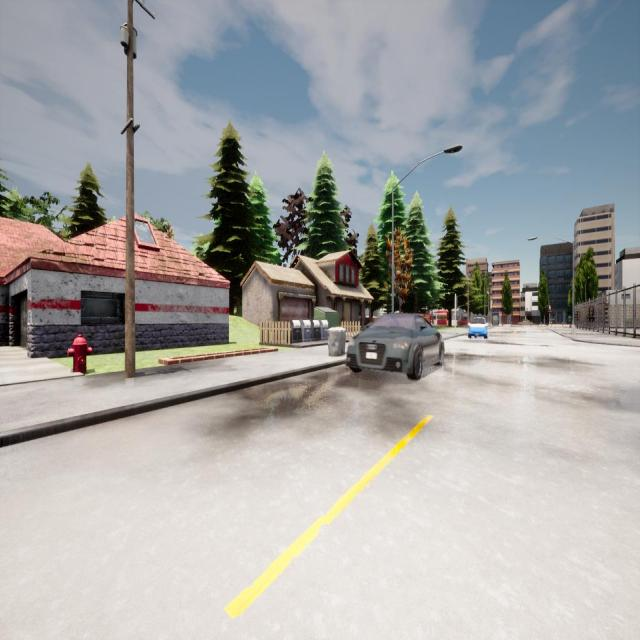Pedestrian: (568, 314, 572, 329)
Vehicle: (346, 313, 444, 379), (468, 317, 488, 339)
traffic_light: (456, 297, 458, 308), (548, 306, 551, 313)
